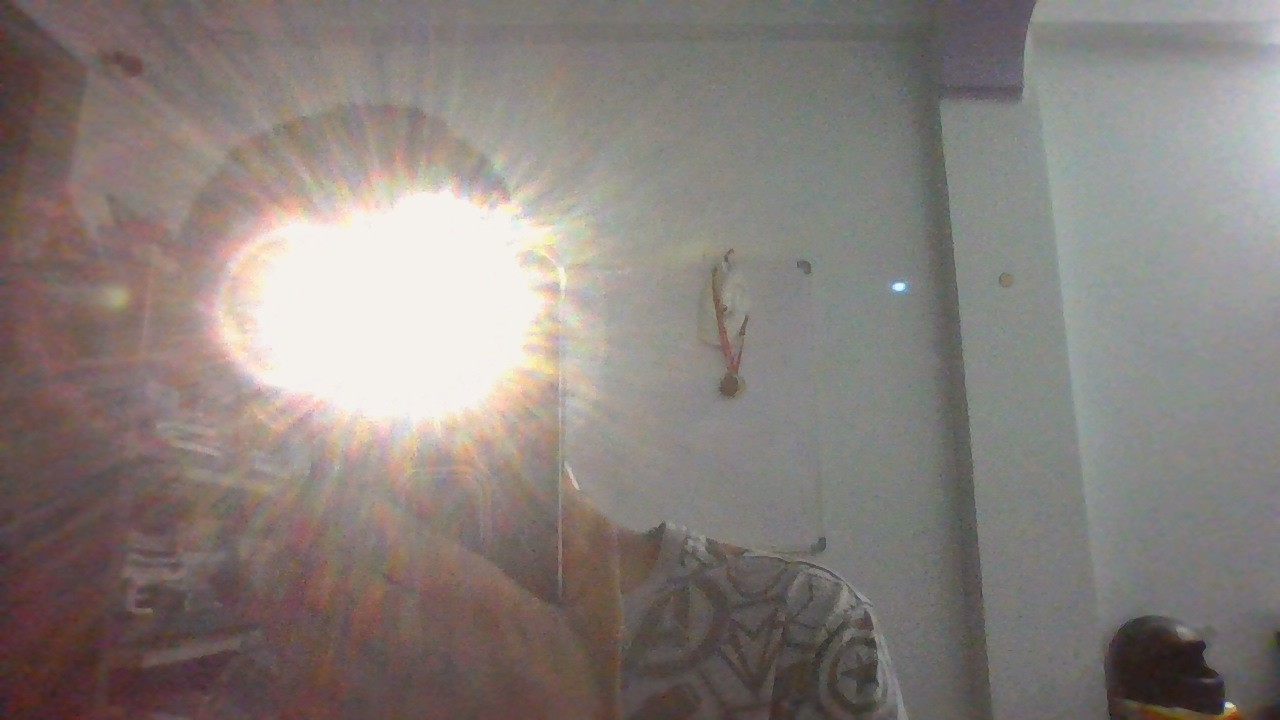Glare: (238, 192, 547, 423)
